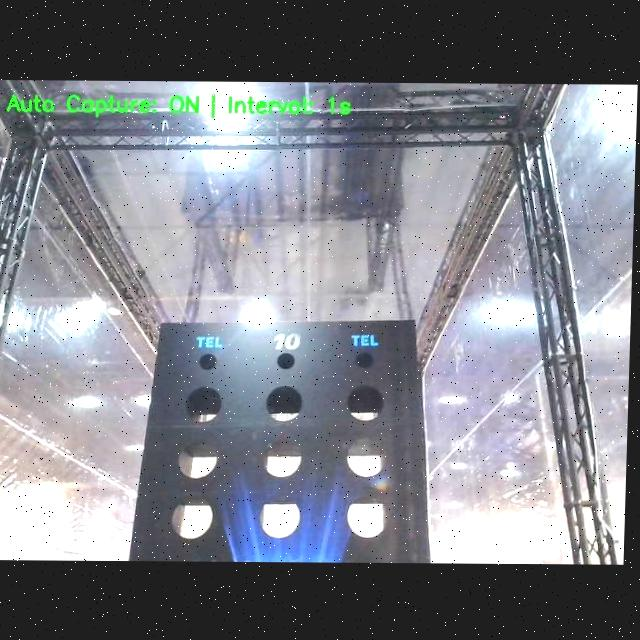hole: (347, 494, 393, 538), (171, 495, 215, 539), (262, 437, 305, 479), (258, 497, 301, 539), (346, 436, 388, 478), (178, 439, 218, 479), (265, 385, 304, 423), (346, 384, 385, 422), (185, 386, 224, 423), (277, 352, 296, 370), (198, 353, 218, 370), (356, 352, 375, 369)
